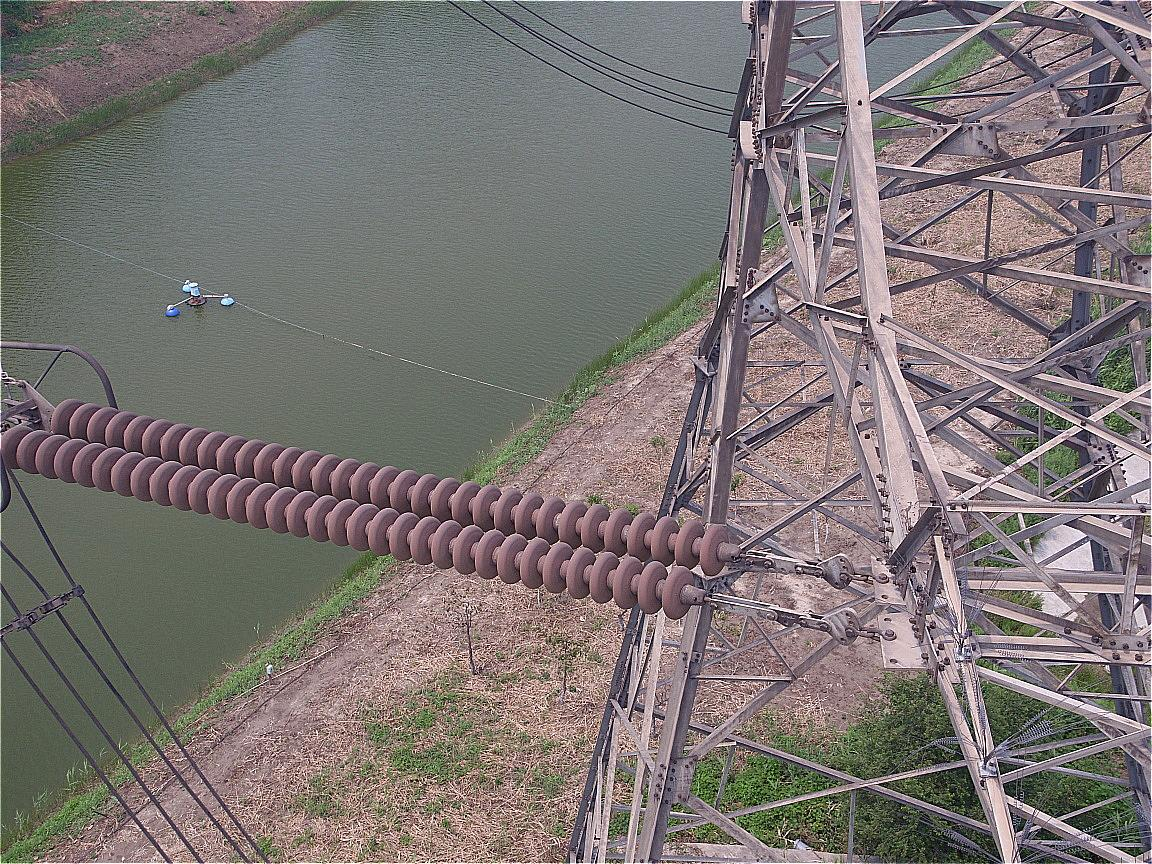insultor1: (3, 395, 730, 620)
